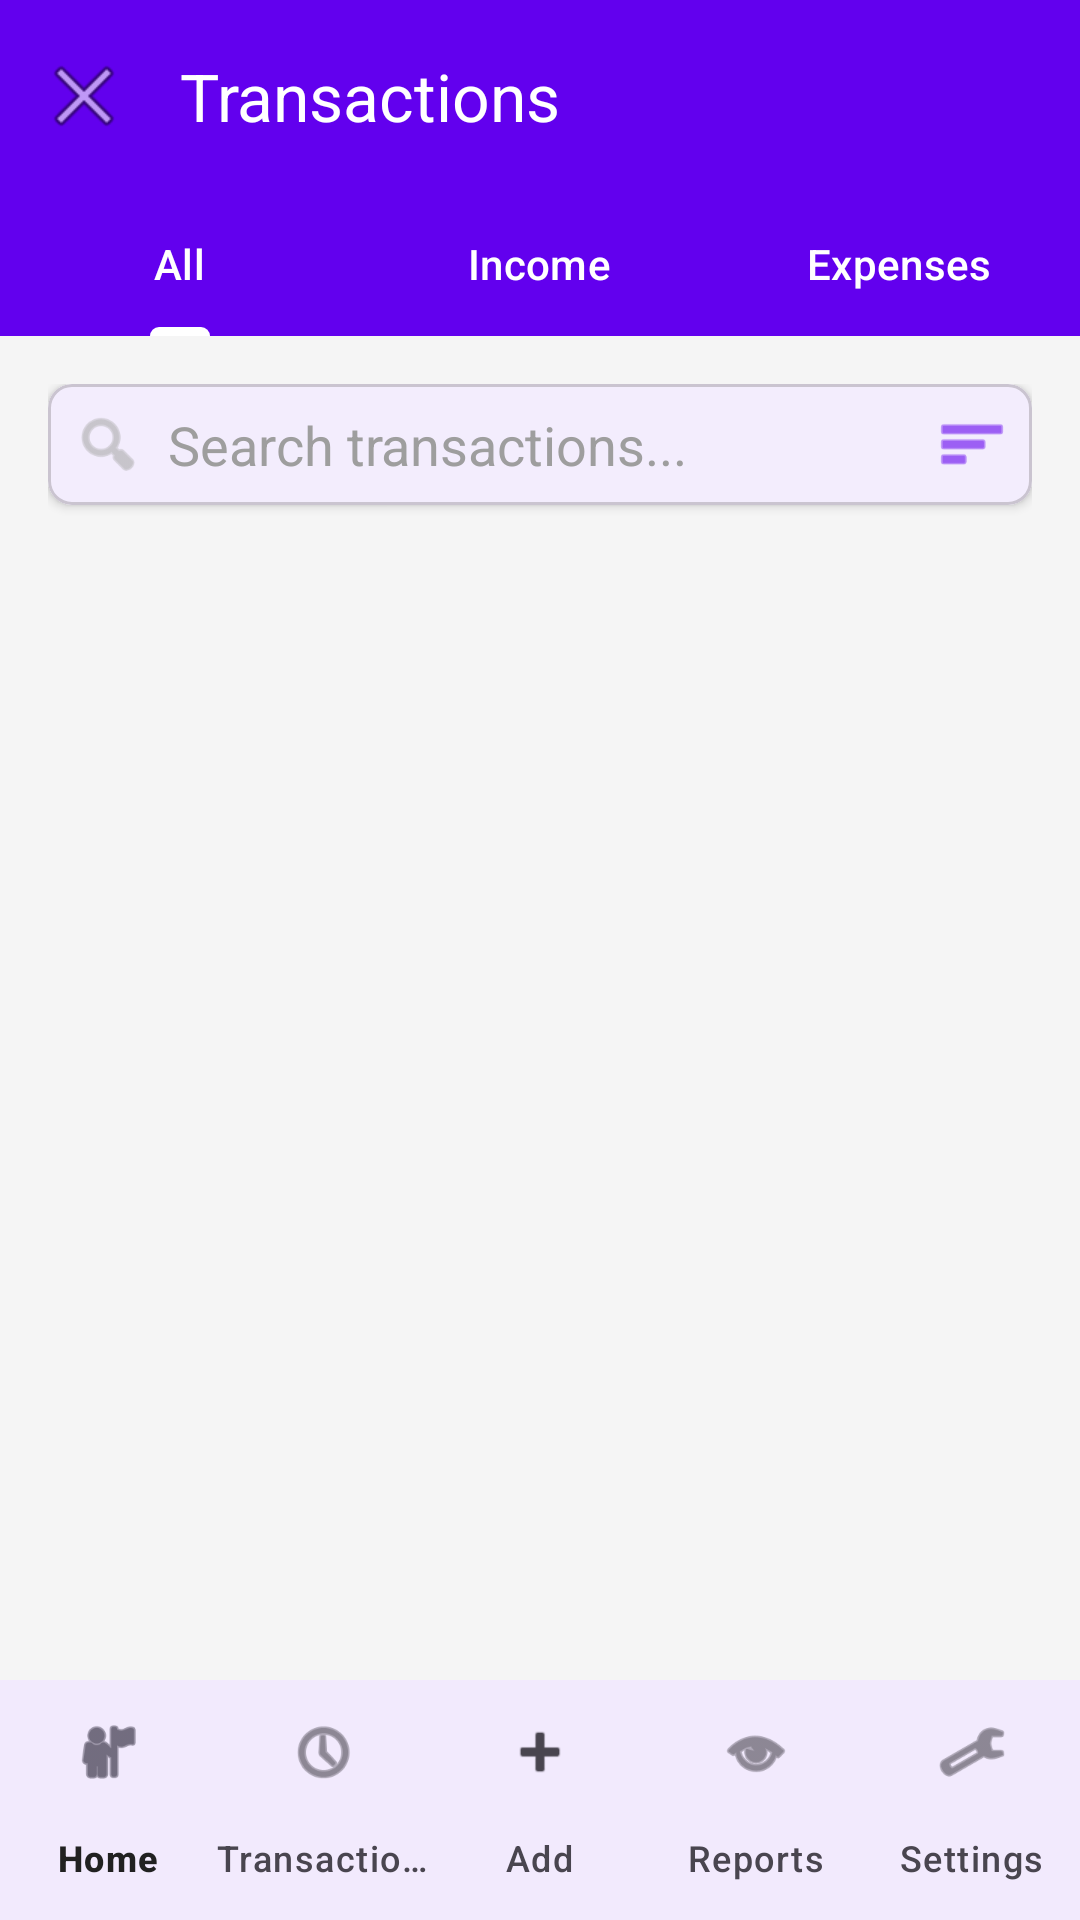

Icons on this 1080 x 1920 Android screen, each with its box as (x1, y1, x2, y2):
Filter: (941, 424, 1003, 465)
